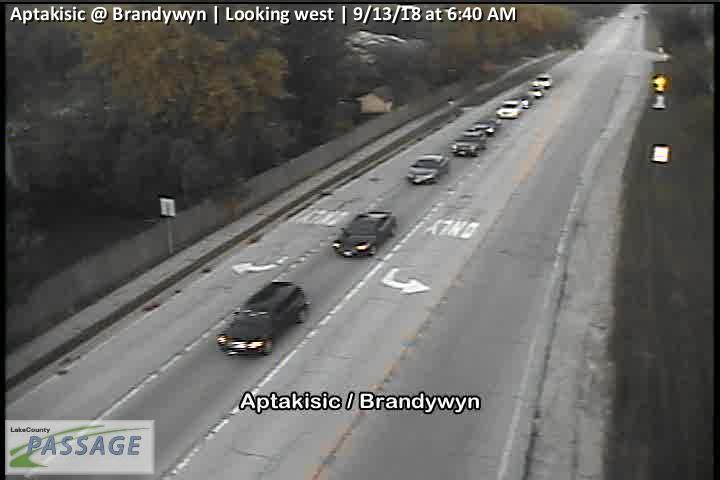SUV: (216, 280, 305, 357), (497, 98, 524, 119)
Sedan: (331, 210, 397, 258), (406, 154, 450, 185), (451, 131, 488, 158), (473, 117, 499, 136)
